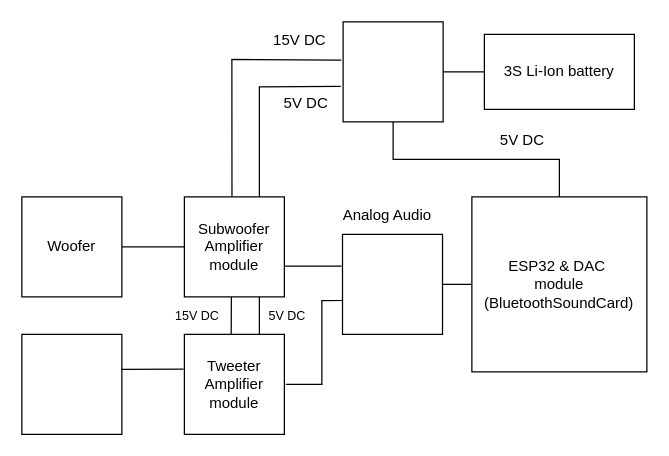
This 669x456 diagram has some shape labels left out. Each missing label, with the centre of its shape:
"Crossover module" goes at (x=391, y=283).
"PSU module" goes at (x=392, y=71).
"Tweeters" goes at (x=71, y=383).
